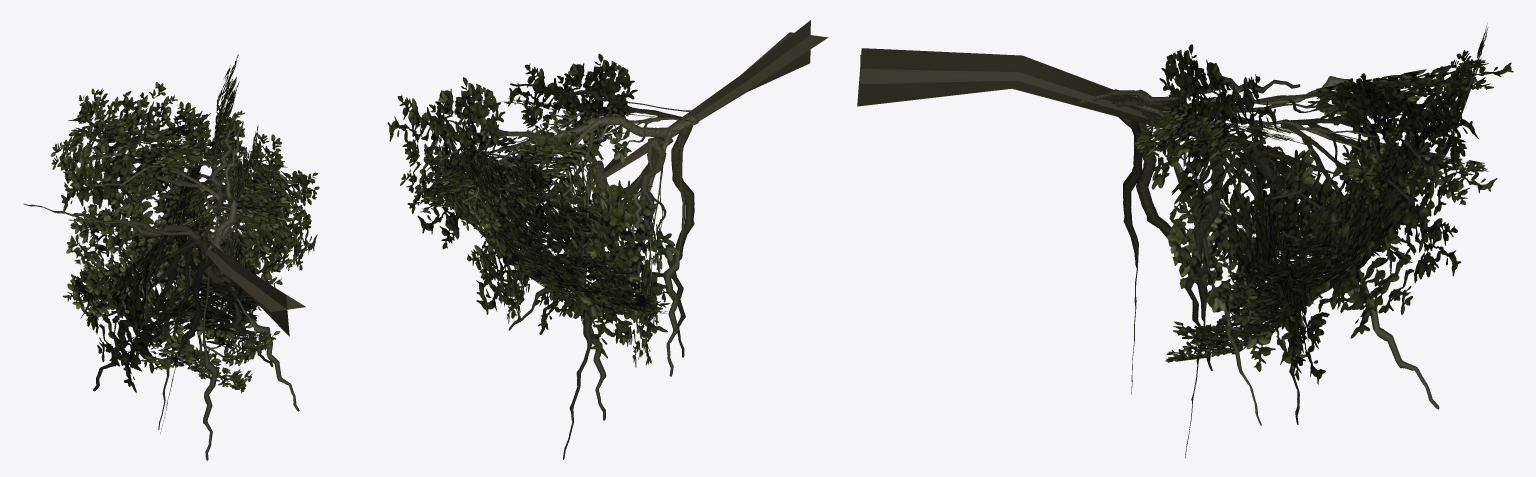
The model's file is Trees_02_g_LOD_01.fbx.
The picture shows the model from 3 angles, left to right: view 1: azimuth 30°, elevation 25°; view 2: azimuth 150°, elevation 25°; view 3: azimuth 270°, elevation 25°; orthographic projection. The views are drawn at different scales.
Parts seen in each view (by area): view 1: MEP_Leafs_02_g_LOD_01; view 2: MEP_Leafs_02_g_LOD_01; view 3: MEP_Leafs_02_g_LOD_01.
Part boxes in pixels (bbox=[...]): MEP_Leafs_02_g_LOD_01: bbox=[23, 54, 319, 460]; MEP_Leafs_02_g_LOD_01: bbox=[387, 20, 828, 459]; MEP_Leafs_02_g_LOD_01: bbox=[857, 23, 1513, 458].
Size of the model in its own units: 6.69 by 8.1 by 10.14.
